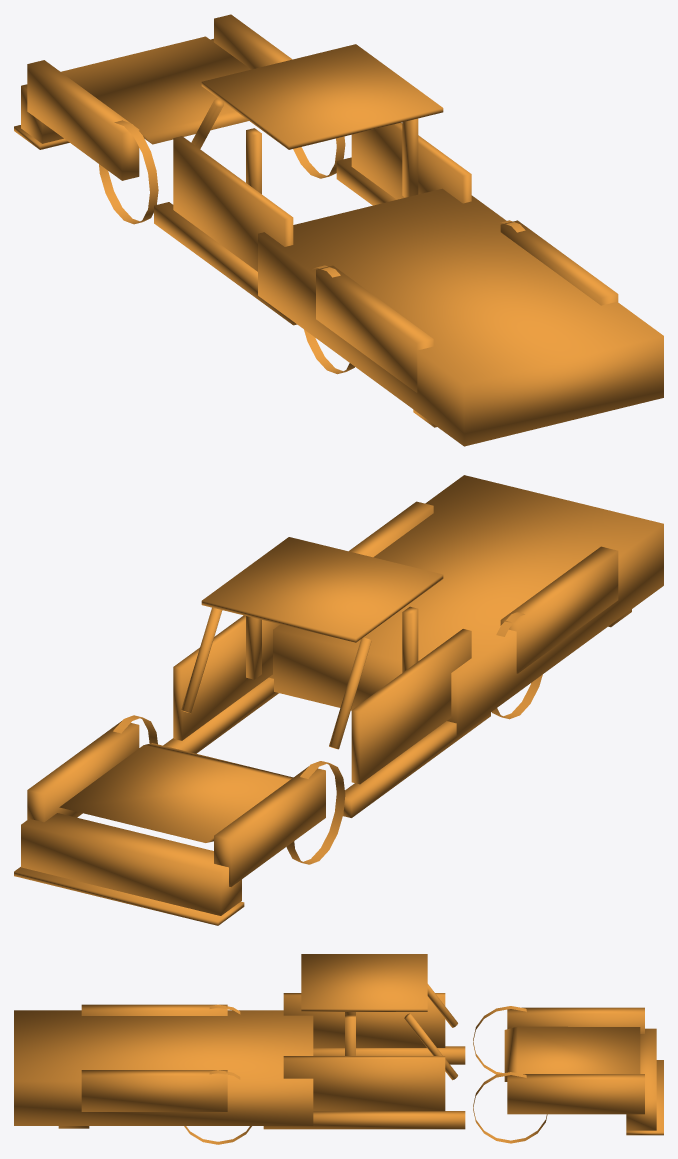
The model's file is body_pickup_truck.glb.
The picture shows the model from 3 angles, top to bottom: view 1: azimuth 30°, elevation 25°; view 2: azimuth 150°, elevation 25°; view 3: azimuth 270°, elevation 25°; orthographic projection. The views are drawn at different scales.
Visible parts, largest first — view 1: BODY_RearClip, BODY_Cabin, BODY_FrontClip; view 2: BODY_RearClip, BODY_FrontClip, BODY_Cabin; view 3: BODY_RearClip, BODY_Cabin, BODY_FrontClip.
Boxes of the visible parts, x1,y1,x2,y2 form: BODY_RearClip: (258,188,663,446); BODY_Cabin: (154,44,471,325); BODY_FrontClip: (14,14,345,224); BODY_RearClip: (269,475,663,736); BODY_FrontClip: (14,715,345,925); BODY_Cabin: (163,537,490,817); BODY_RearClip: (14,1004,313,1144); BODY_Cabin: (263,954,465,1129); BODY_FrontClip: (473,1006,663,1143).
Bounding box in the file's own units: 1.9 × 1.58 × 7.22.
